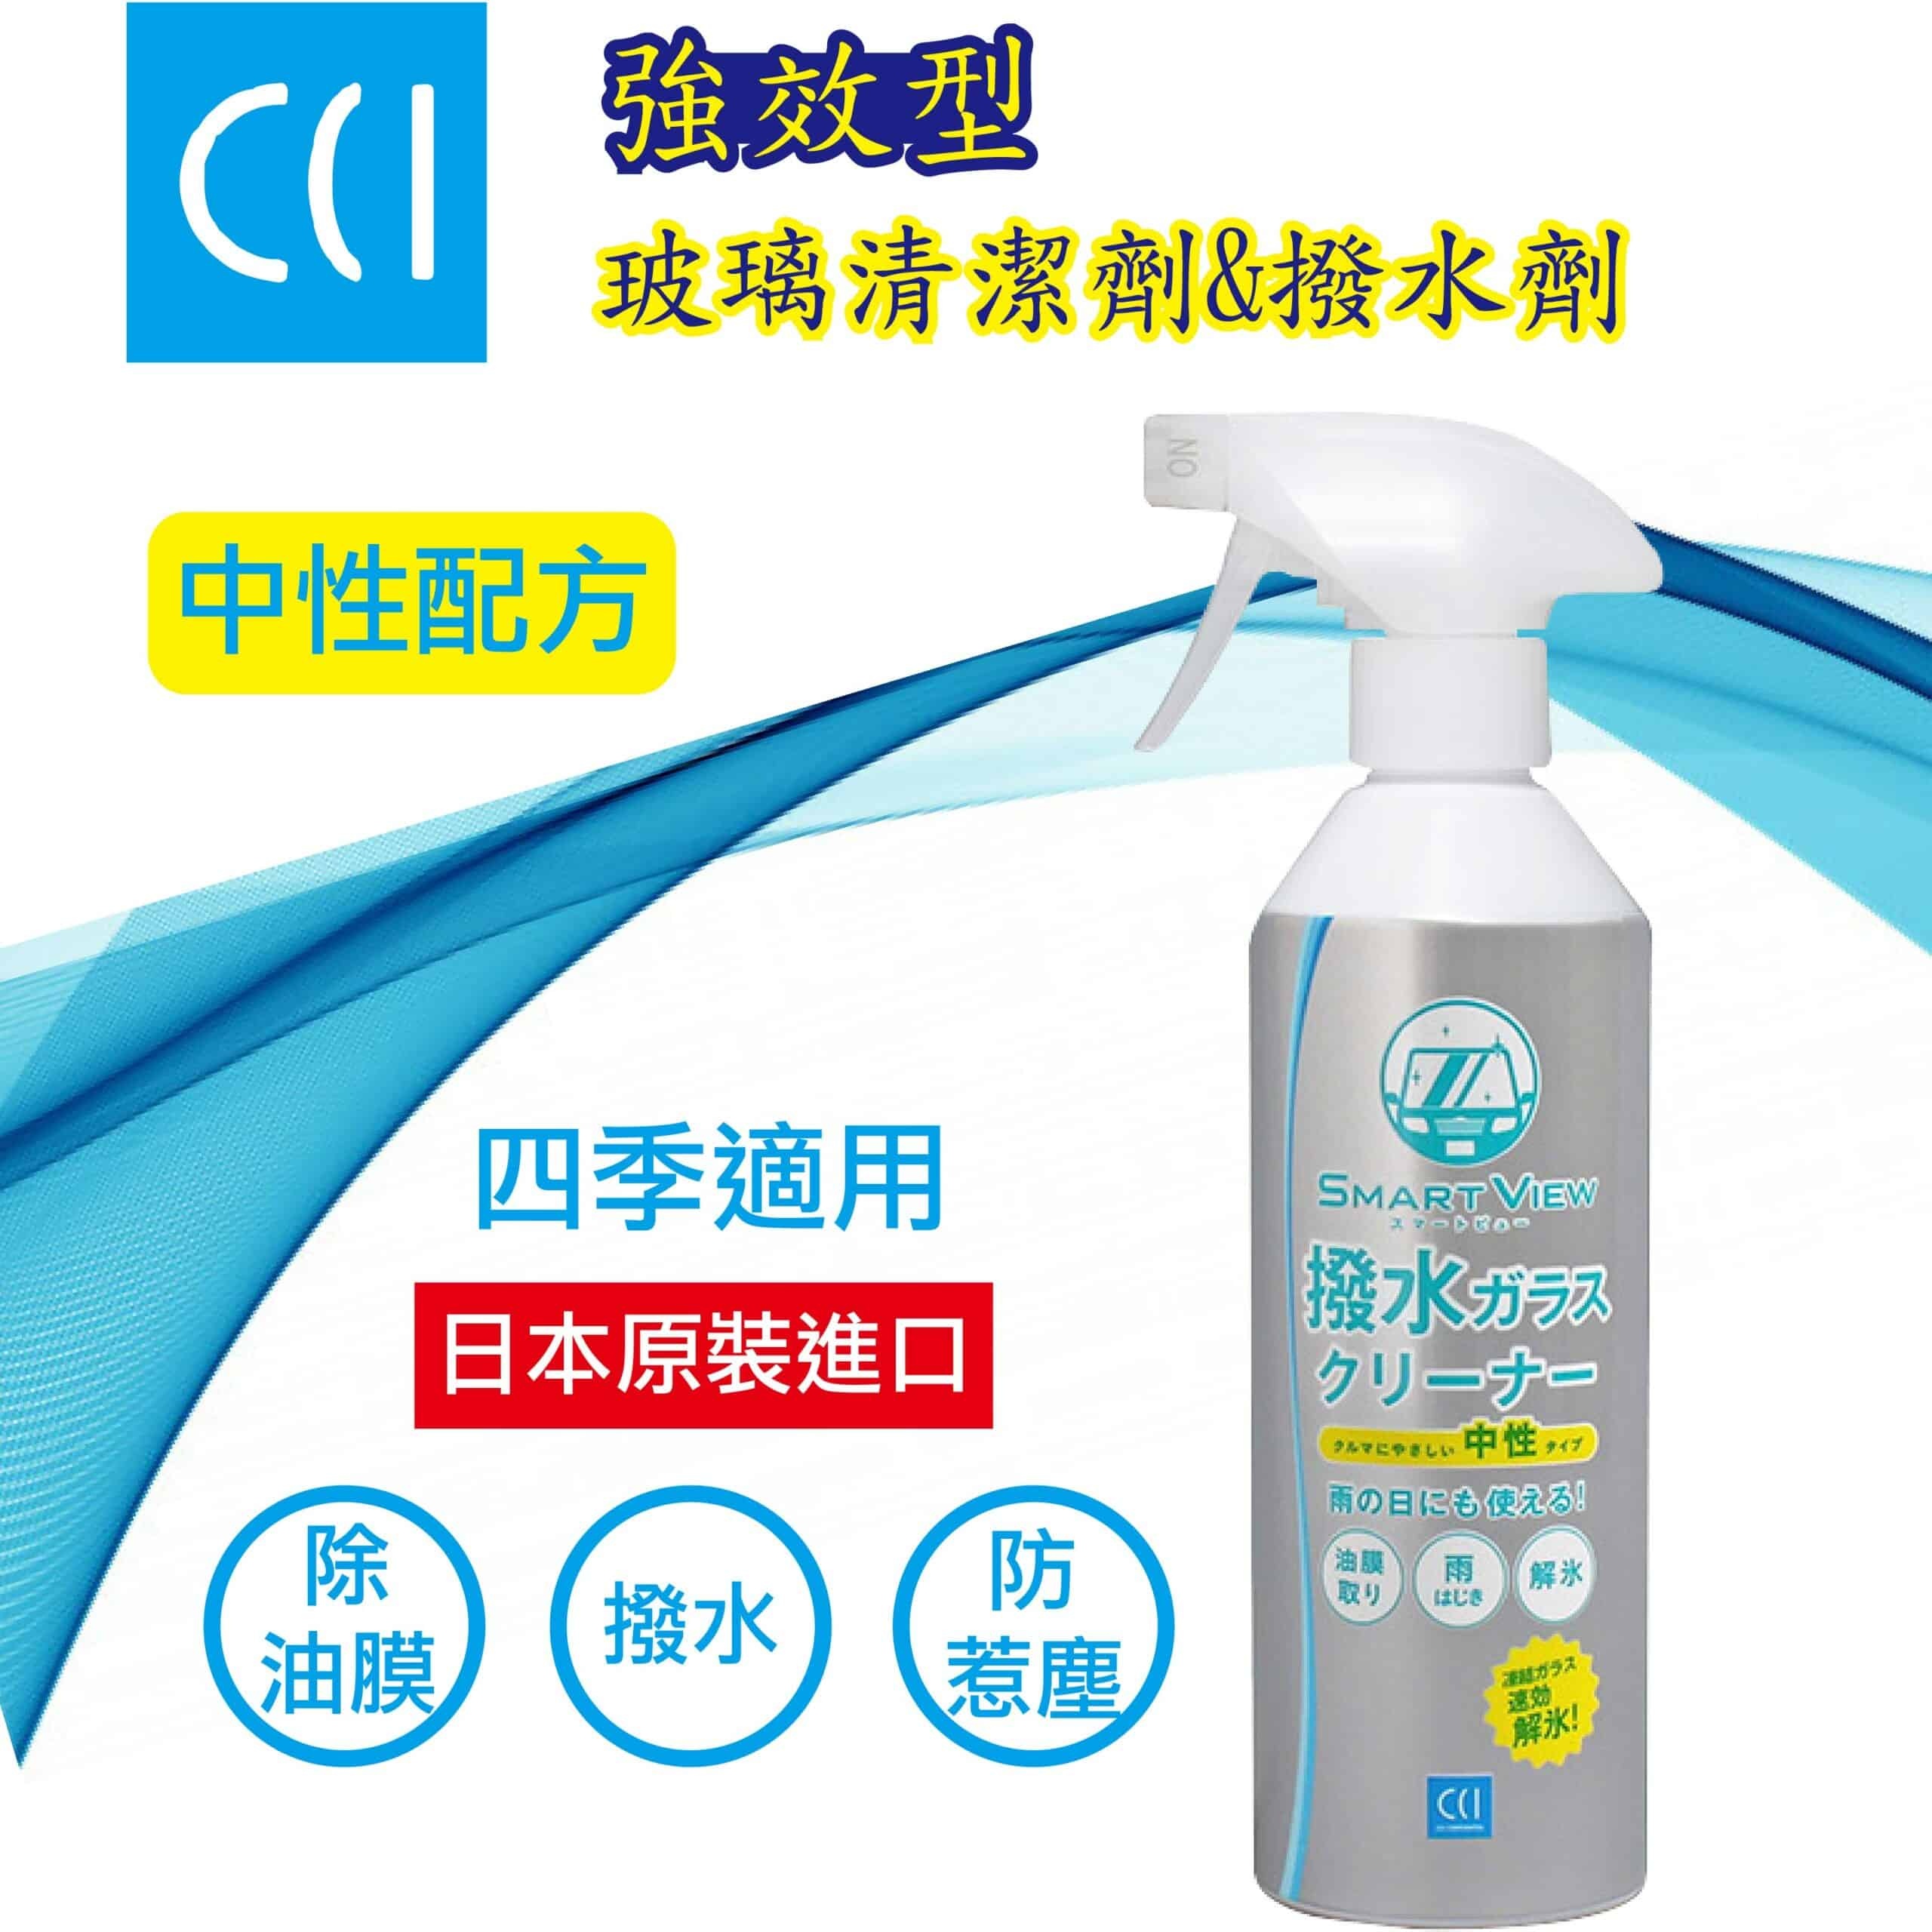cleaner: (1122, 403, 1665, 1921)
